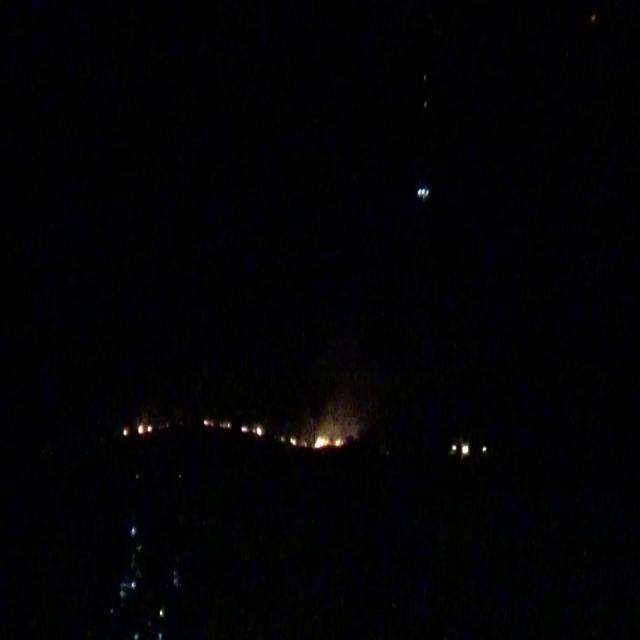Fire: (314, 434, 342, 452), (136, 419, 156, 437), (242, 424, 262, 436), (201, 418, 213, 428), (290, 436, 298, 446)
